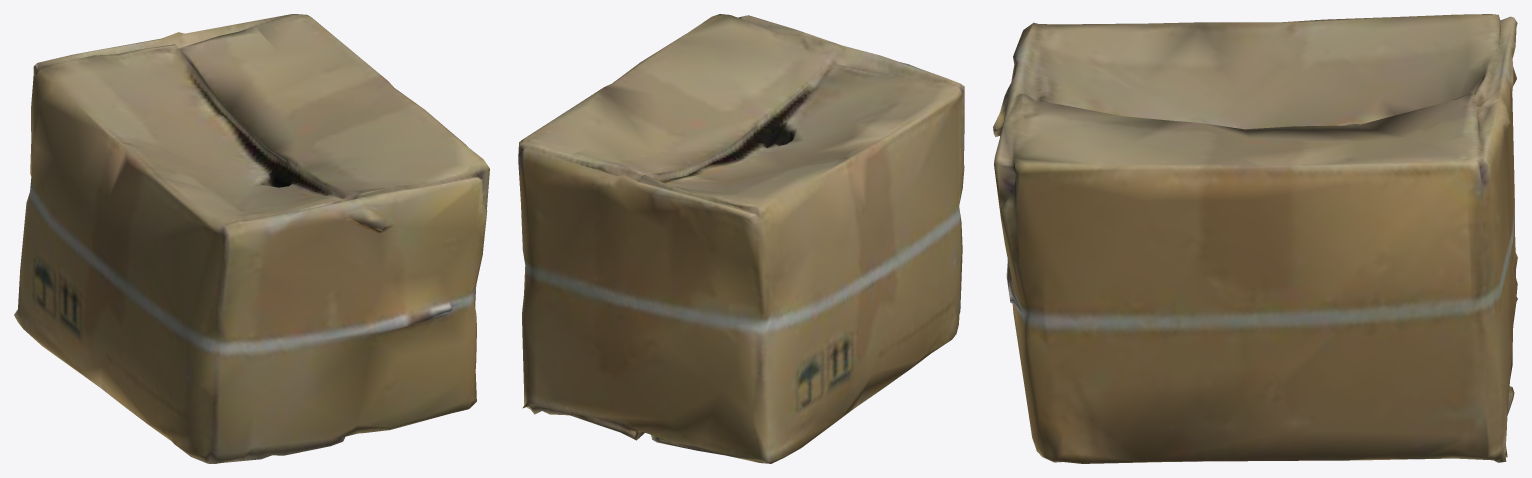
The model's file is cardboard_box_01.lite.glb.
The picture shows the model from 3 angles, left to right: view 1: azimuth 30°, elevation 25°; view 2: azimuth 150°, elevation 25°; view 3: azimuth 270°, elevation 25°; orthographic projection. The views are drawn at different scales.
Parts seen in each view (by area): view 1: cardboard_box_01; view 2: cardboard_box_01; view 3: cardboard_box_01.
Part boxes in pixels (x1=…): cardboard_box_01: x1=14, y1=14, x2=489, y2=463; cardboard_box_01: x1=518, y1=14, x2=964, y2=463; cardboard_box_01: x1=993, y1=14, x2=1517, y2=463.
Size of the model in its own units: 0.3865 by 0.3407 by 0.5159.
1 material, 1 textured.
